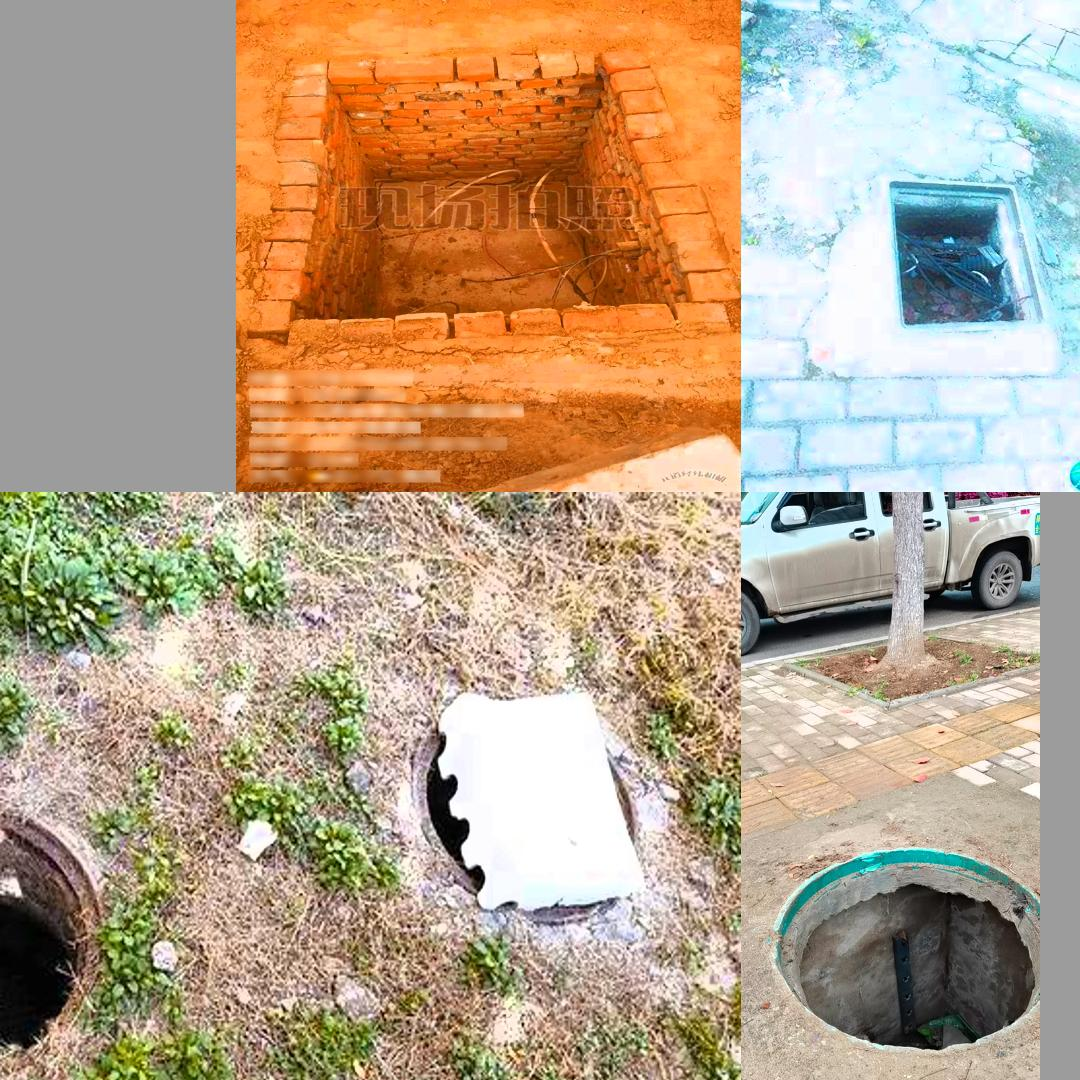lose: (284, 72, 694, 321), (771, 848, 1039, 1055), (854, 167, 1067, 376), (0, 768, 126, 1080)
